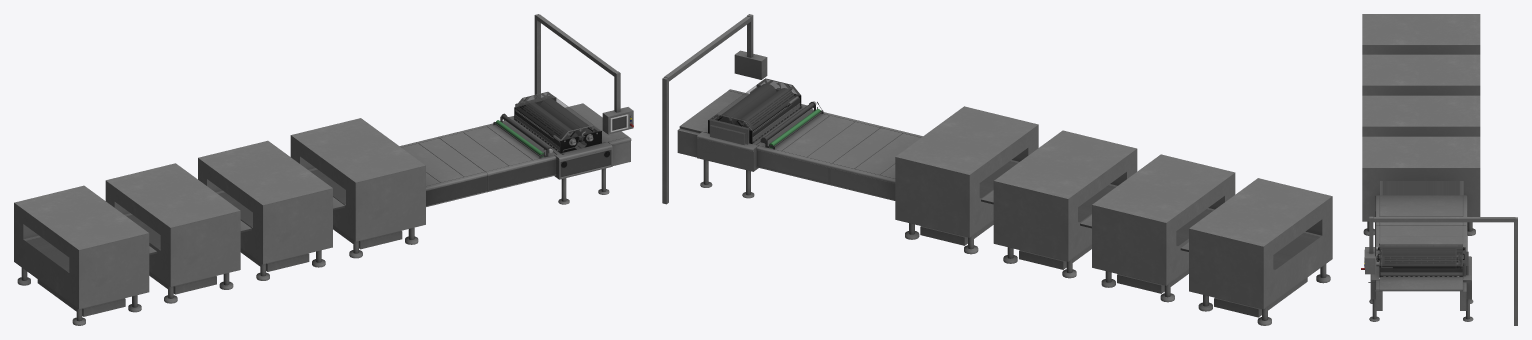
The model's file is laminadora.fbx.
The picture shows the model from 3 angles, left to right: view 1: azimuth 30°, elevation 25°; view 2: azimuth 150°, elevation 25°; view 3: azimuth 270°, elevation 25°; orthographic projection. The views are drawn at different scales.
Visible parts, largest first — view 1: polySurface690, polySurface601, polySurface670, polySurface680, polySurface41 (×2), polySurface623, polySurface597, polySurface596, polySurface646, polySurface622, polySurface595, polySurface599 (+12 smaller); view 2: polySurface690, polySurface670, polySurface601, polySurface680, polySurface41 (×2), polySurface608, polySurface597, polySurface596, polySurface651, polySurface605, polySurface595, polySurface599 (+13 smaller); view 3: polySurface601, polySurface670, polySurface680, polySurface690, polySurface43 (×2), polySurface649, polySurface41 (×2), polySurface590, polySurface598, polySurface599, polySurface597, polySurface596 (+16 smaller).
Part boxes in pixels (x1,y1,x2,y2): polySurface690: (14,185,149,309); polySurface601: (290,118,425,241); polySurface670: (198,140,332,264); polySurface680: (105,163,240,286); polySurface41 (×2): (523,92,592,131); polySurface623: (487,159,556,191); polySurface597: (440,132,508,171); polySurface596: (463,127,532,165); polySurface646: (554,148,612,179); polySurface622: (426,176,487,206); polySurface595: (419,138,484,176); polySurface599: (402,143,463,182); polySurface690: (1189,178,1332,309); polySurface670: (993,130,1137,261); polySurface601: (895,106,1038,237); polySurface680: (1092,154,1235,285); polySurface41 (×2): (717,78,791,120); polySurface608: (756,150,829,184); polySurface597: (807,122,879,163); polySurface596: (782,115,854,157); polySurface651: (697,138,758,171); polySurface605: (829,168,895,200); polySurface595: (832,128,902,168); polySurface599: (855,133,920,174); polySurface601: (1362,136,1480,221); polySurface670: (1362,95,1480,136); polySurface680: (1362,54,1480,95); polySurface690: (1362,14,1480,54); polySurface43 (×2): (1380,244,1462,266); polySurface649: (1379,279,1462,291); polySurface41 (×2): (1380,244,1462,255); polySurface590: (1382,256,1455,268); polySurface598: (1379,195,1462,205); polySurface599: (1379,206,1462,216); polySurface597: (1379,226,1462,236); polySurface596: (1379,236,1462,246).
Size of the model in its own units: 227 by 45.86 by 60.59.
